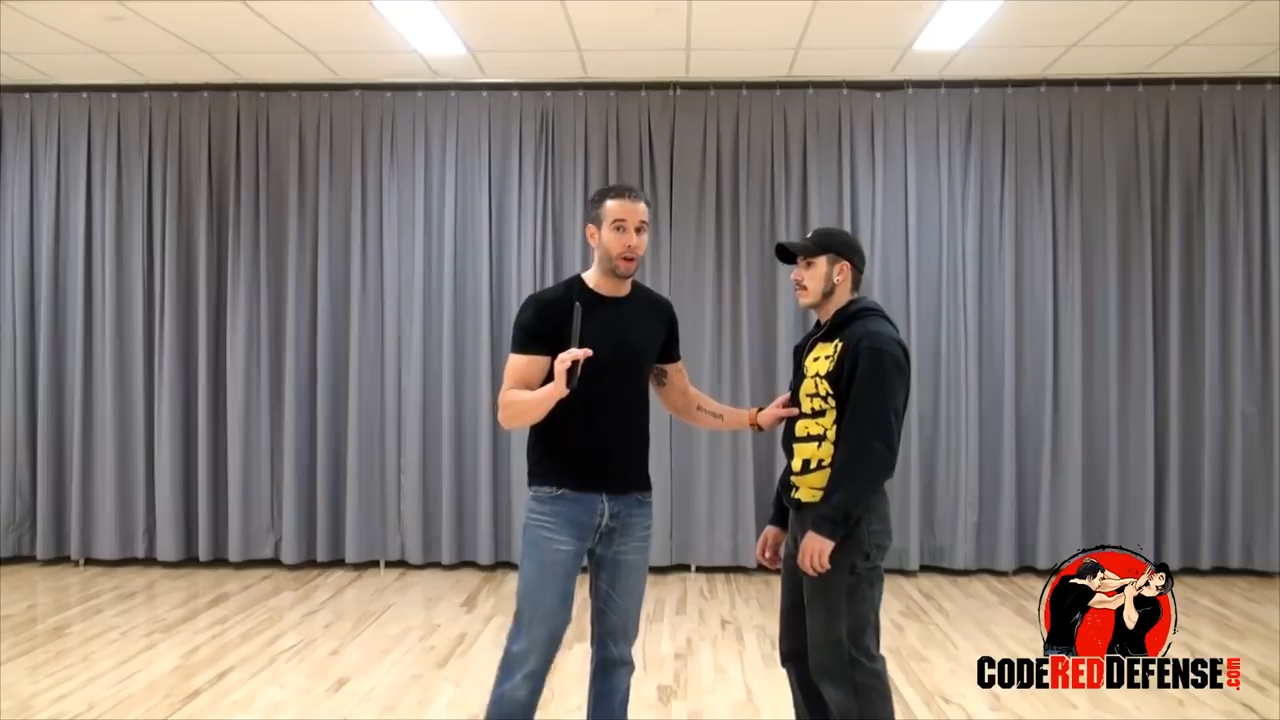knife: (554, 296, 595, 392)
